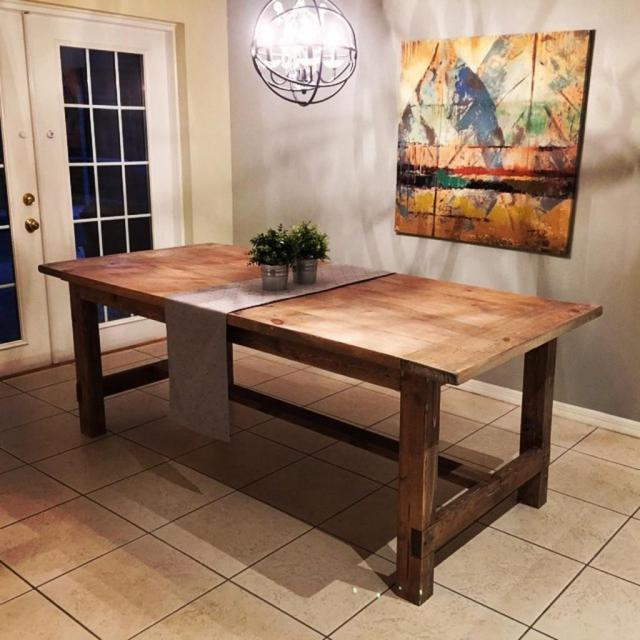table: (161, 243, 590, 603)
